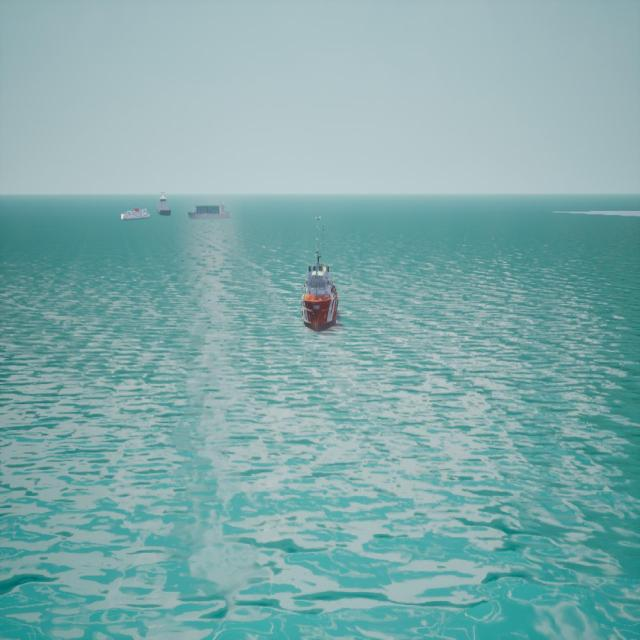tug boat: (302, 218, 339, 336)
